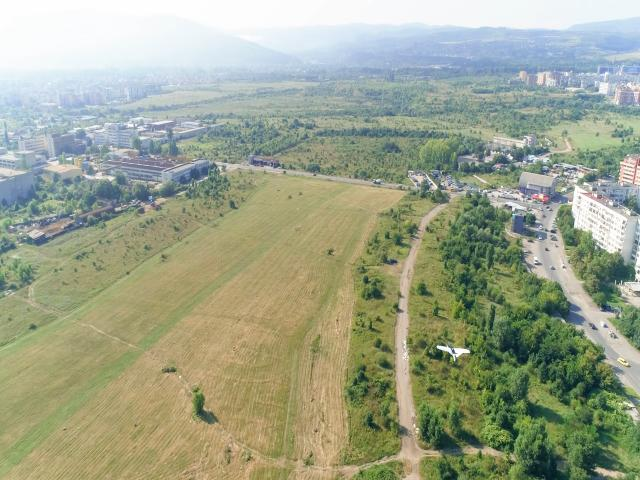plane: (435, 343, 469, 364)
